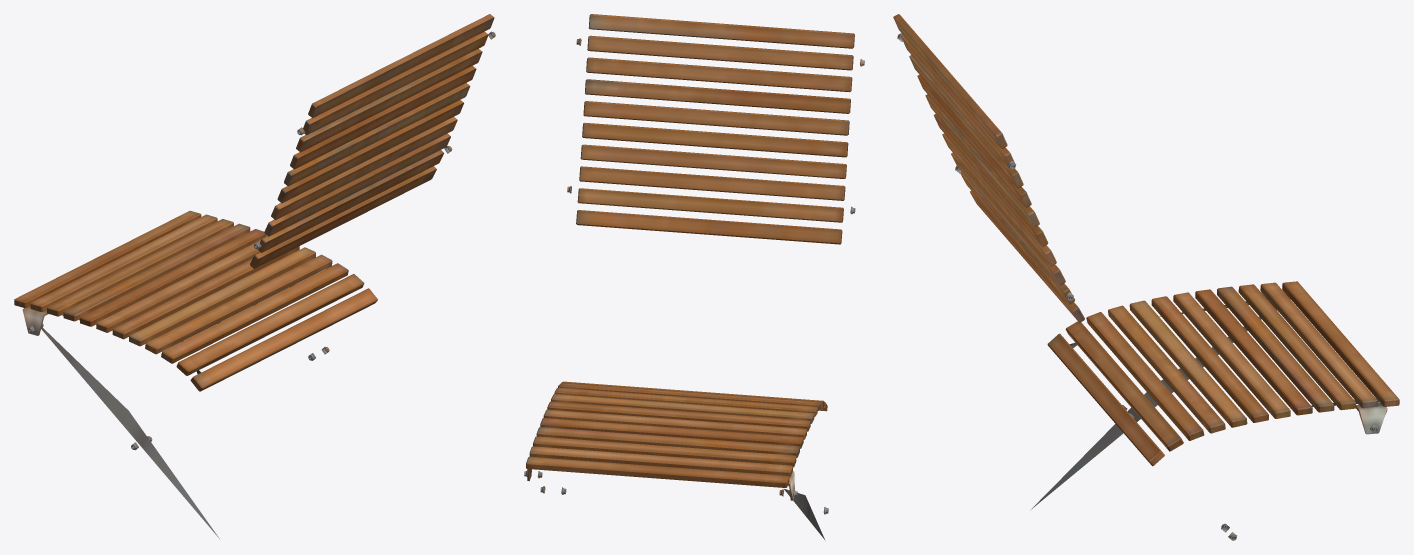
Rendered from outdoor-chair-lod2.glb.
3 views of the same model, side by side, from view 1: azimuth 30°, elevation 25°; view 2: azimuth 150°, elevation 25°; view 3: azimuth 270°, elevation 25° (orthographic). The views are drawn at different scales.
Parts seen in each view (by area): view 1: outdoor_table_chair_set_01_chair_01; view 2: outdoor_table_chair_set_01_chair_01; view 3: outdoor_table_chair_set_01_chair_01.
Part boxes in pixels (<box>): outdoor_table_chair_set_01_chair_01: <box>14,14,495,538</box>; outdoor_table_chair_set_01_chair_01: <box>524,14,864,540</box>; outdoor_table_chair_set_01_chair_01: <box>893,14,1399,540</box>.
Bounding box in the file's own units: 0.5609 × 0.7273 × 0.6494.
1 material, 1 textured.
